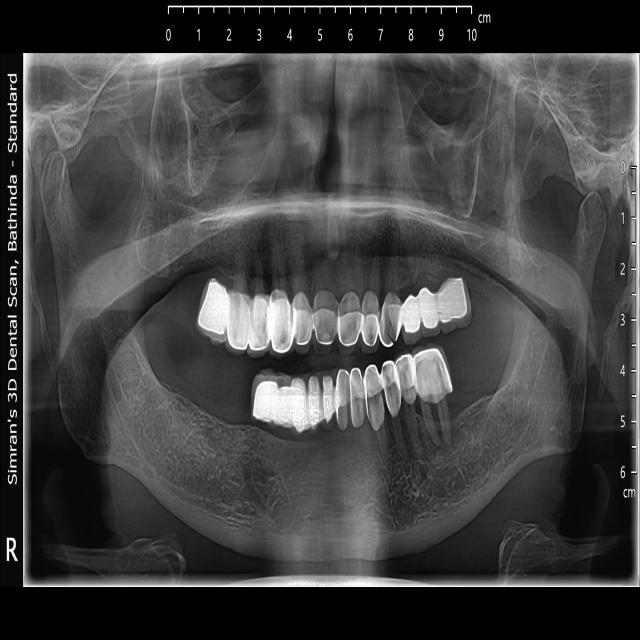Crown: (413, 343, 452, 405), (437, 278, 473, 336), (198, 276, 228, 343), (362, 359, 385, 433), (226, 288, 252, 353), (246, 293, 272, 358), (313, 289, 339, 354), (270, 290, 295, 357), (336, 292, 361, 356), (379, 291, 405, 351), (379, 355, 403, 414), (252, 372, 278, 425), (292, 291, 313, 355), (360, 290, 380, 355), (396, 352, 420, 405), (419, 285, 441, 340), (334, 368, 351, 436), (291, 376, 310, 435), (276, 377, 296, 433), (402, 292, 421, 345), (349, 367, 365, 429), (308, 375, 324, 431), (323, 373, 338, 431), (199, 281, 210, 319)
Mandibular Canal: (96, 341, 277, 527), (424, 333, 565, 498)
Missing teeth: (165, 355, 255, 431), (446, 333, 507, 425), (162, 262, 201, 315)
Periapical lesion: (432, 429, 462, 455)
maxillary sinus: (148, 66, 281, 221), (405, 75, 491, 219)
